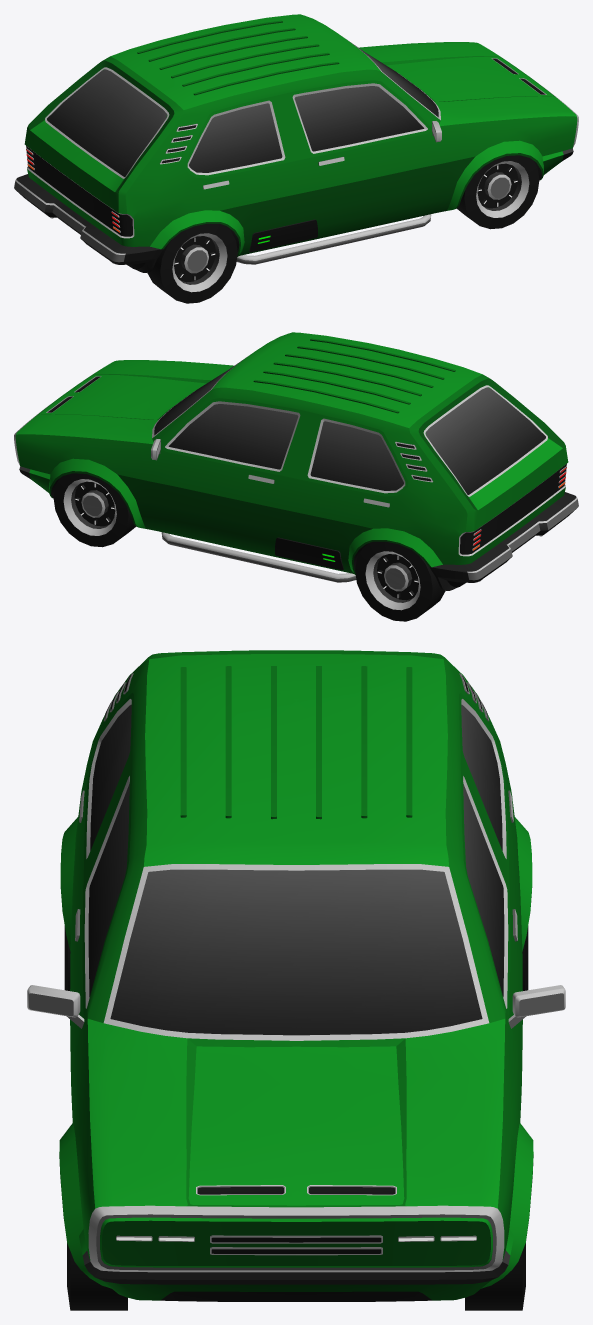
Rendered from Car_244.glb.
3 views of the same model, one above another, from view 1: azimuth 30°, elevation 25°; view 2: azimuth 150°, elevation 25°; view 3: azimuth 270°, elevation 25° (orthographic). The views are drawn at different scales.
Visible parts, largest first — view 1: Car_244, wheel_3_Car_244_Wheel_2R, wheel_1_Car_244_Wheel_1R; view 2: Car_244, wheel_2_Car_244_Wheel_2L, wheel_0_Car_244_Wheel_1L; view 3: Car_244, wheel_0_Car_244_Wheel_1L, wheel_1_Car_244_Wheel_1R.
Boxes of the visible parts, box(x1,y1,x2,y2) form: Car_244: box(14, 14, 578, 272); wheel_3_Car_244_Wheel_2R: box(147, 223, 237, 303); wheel_1_Car_244_Wheel_1R: box(457, 155, 539, 229); Car_244: box(14, 332, 578, 590); wheel_2_Car_244_Wheel_2L: box(355, 541, 445, 621); wheel_0_Car_244_Wheel_1L: box(53, 473, 135, 547); Car_244: box(27, 650, 565, 1301); wheel_0_Car_244_Wheel_1L: box(465, 1243, 525, 1310); wheel_1_Car_244_Wheel_1R: box(67, 1243, 127, 1310).
Bounding box in the file's own units: 3.89 × 1.45 × 1.93.
2 materials, 2 textured.
